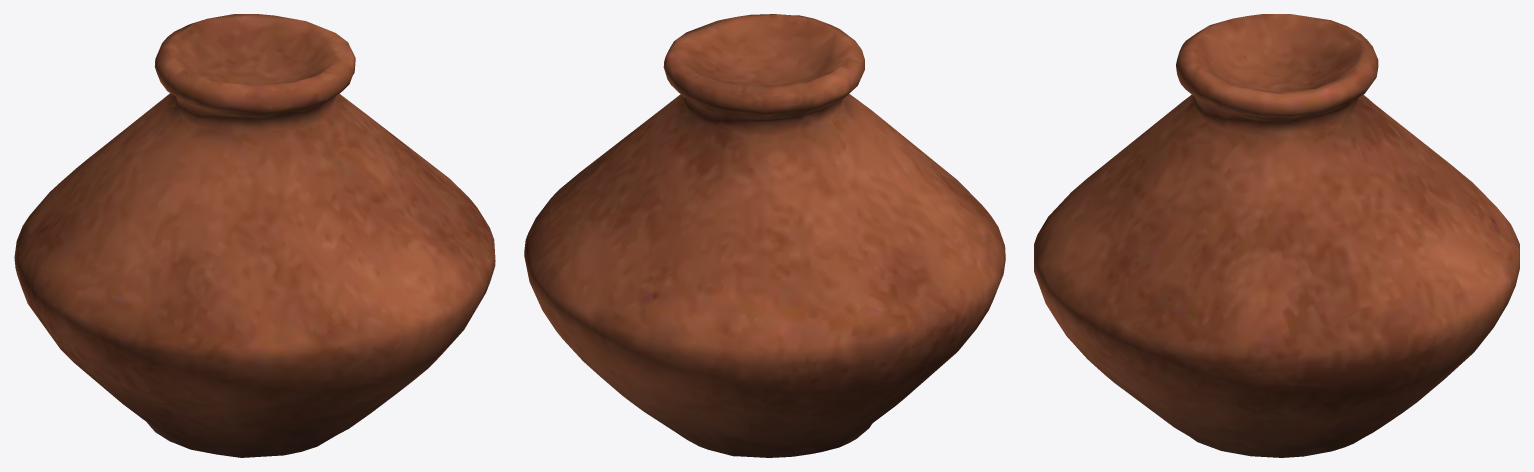
The model's file is plain-terracotta-amphora-v001.glb.
3 views of the same model, side by side, from view 1: azimuth 30°, elevation 25°; view 2: azimuth 150°, elevation 25°; view 3: azimuth 270°, elevation 25° (orthographic).
Visible parts, largest first — view 1: plain-terracotta-amphora; view 2: plain-terracotta-amphora; view 3: plain-terracotta-amphora.
Part boxes in pixels (x1,y1,x2,y2): plain-terracotta-amphora: [14, 14, 495, 457]; plain-terracotta-amphora: [524, 14, 1005, 457]; plain-terracotta-amphora: [1034, 14, 1519, 457].
Size of the model in its own units: 1.15 by 0.9596 by 1.15.
1 material, 1 textured.
